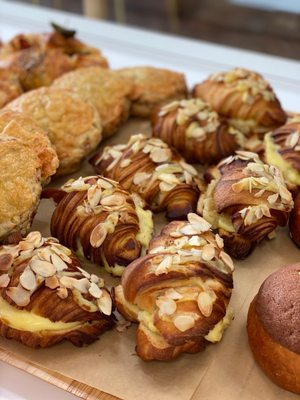salad: (0, 230, 116, 350), (48, 175, 155, 278), (197, 151, 295, 260), (0, 87, 104, 179), (91, 136, 209, 215), (246, 262, 300, 395), (150, 98, 247, 165), (50, 66, 133, 138), (193, 68, 287, 130), (0, 138, 43, 246), (114, 66, 190, 118)
